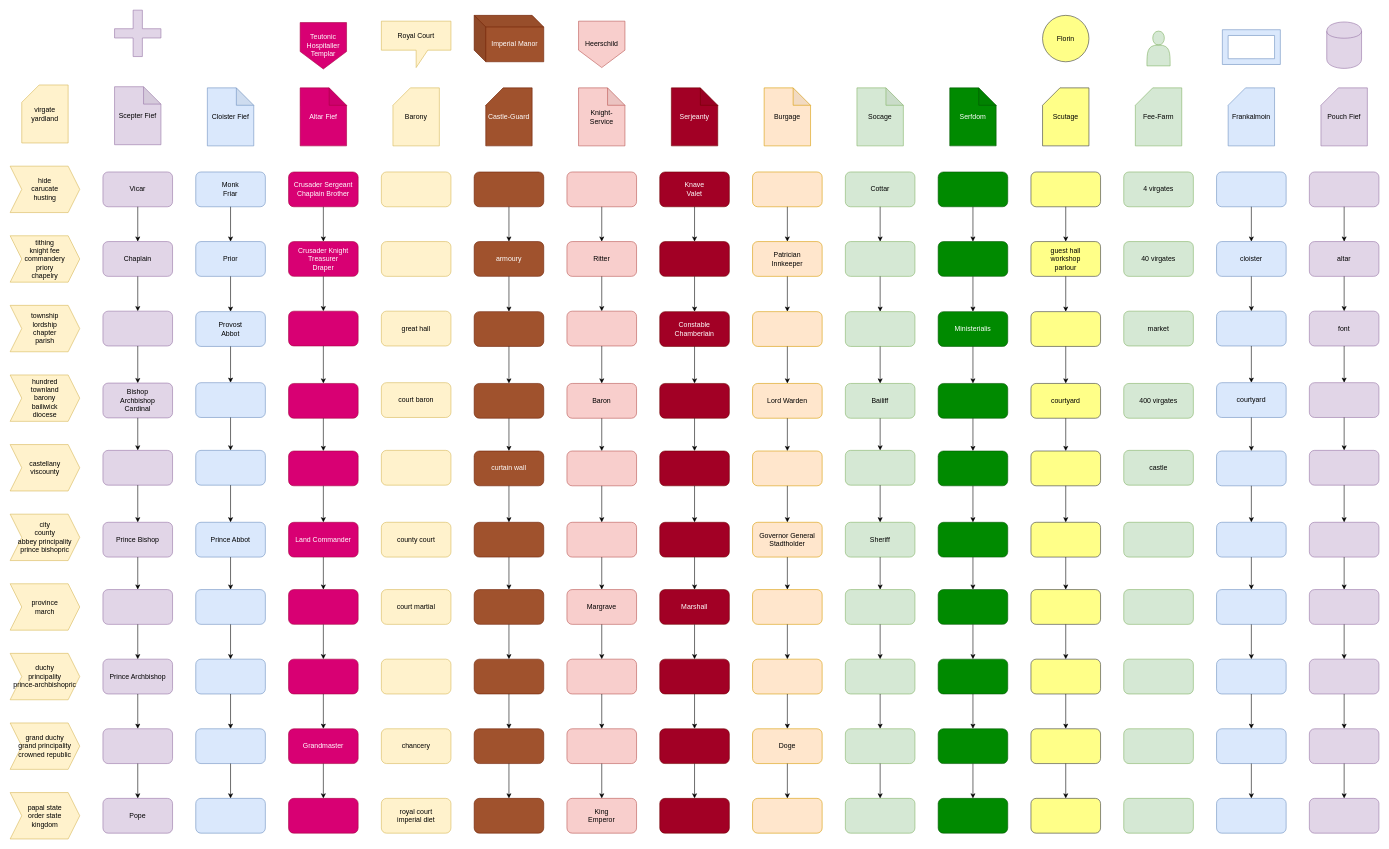
The diagram is 1389 pixels wide and 849 high, and some of its shapes have lost their labels. Each missing label, with the box of its shape:
Burgher: (752, 171, 822, 207)
Burgrave: (566, 450, 637, 486)
cabinet: (1030, 311, 1101, 346)
cathedra: (1309, 382, 1379, 417)
catholic: (114, 10, 161, 57)
Count Count Palatine: (566, 522, 637, 557)
Duke Prince: (566, 659, 637, 694)
Grand Duke Arch Duke: (566, 728, 637, 764)
House Commander: (288, 311, 358, 346)
Hufner Falconer Gamekeeper: (845, 241, 915, 276)
keep: (474, 383, 544, 418)
Knight Commander: (288, 450, 358, 486)
Lieutenant Governor: (752, 450, 822, 486)
Lord: (566, 311, 637, 346)
Lord Mayor: (752, 311, 822, 346)
Master Commander: (288, 659, 358, 694)
outer wall: (474, 522, 544, 557)
Priest Chancellor: (102, 311, 173, 346)
Prince Provost: (195, 382, 265, 417)
Reeve: (845, 311, 915, 346)
Serf: (938, 171, 1008, 207)
Sergeant-at-Arms Butler Panter: (659, 241, 729, 276)
Squire Junker: (566, 171, 637, 207)
vestry: (1216, 311, 1286, 346)
